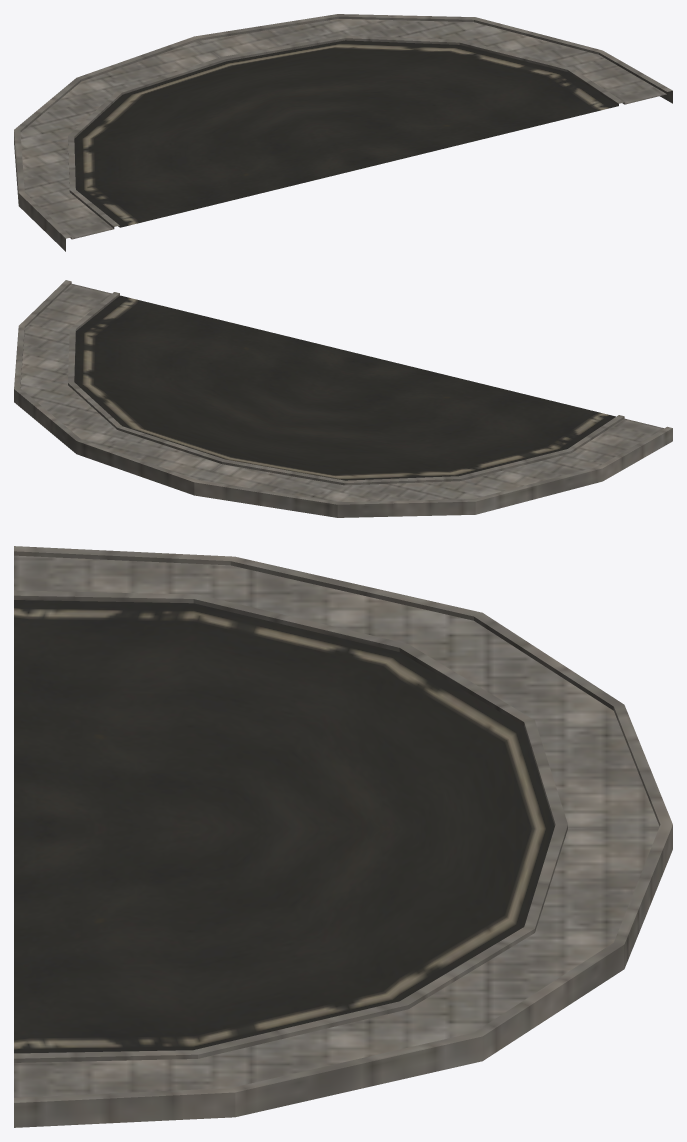
Rendered from RoadStraightC.obj.
The picture shows the model from 3 angles, top to bottom: view 1: azimuth 30°, elevation 25°; view 2: azimuth 150°, elevation 25°; view 3: azimuth 270°, elevation 25°; orthographic projection. The views are drawn at different scales.
Visible parts, largest first — view 1: 7_Road-Streight-C; view 2: 7_Road-Streight-C; view 3: 7_Road-Streight-C.
Part boxes in pixels (x1,y1,x2,y2): 7_Road-Streight-C: (14, 14, 672, 251); 7_Road-Streight-C: (14, 280, 672, 517); 7_Road-Streight-C: (14, 546, 672, 1127).
Size of the model in its own units: 1.05 by 0.0219 by 0.5259.
Materials: 1 (1 with a texture image).
